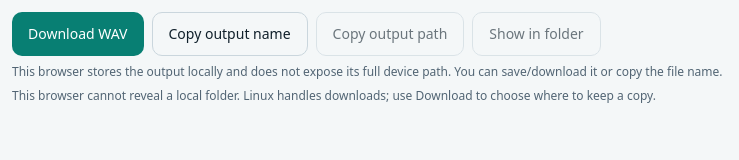
history output actions › copies only the output filename and reports browser path privacy
The width and height of the screenshot is (739, 160).
Click the button "Copy output name" at x=230, y=34, box [152,12,308,56]
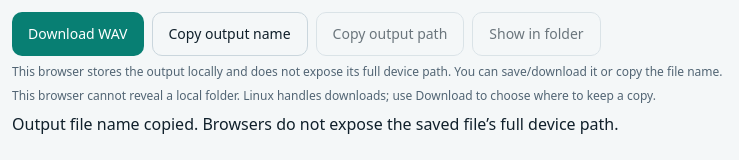
Expected: the message shows "do not expose the saved file’s full device path", [12,113,618,135]
